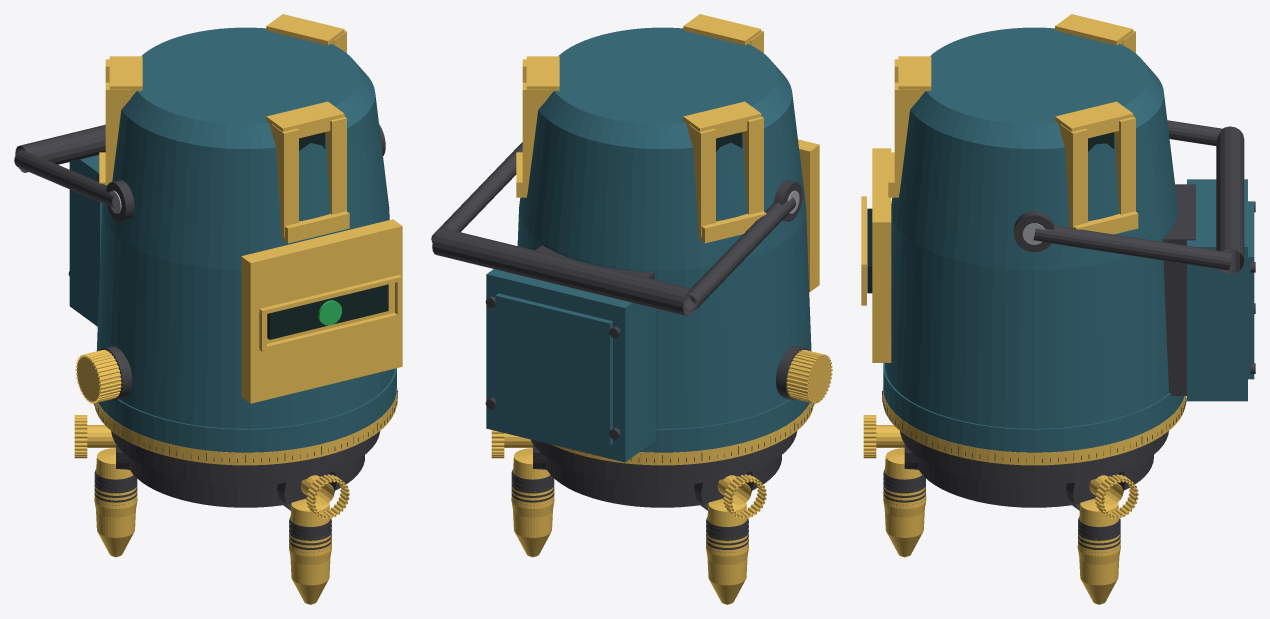
Rendered from workfix_laser_approx.glb.
3 views of the same model, side by side, from view 1: azimuth 30°, elevation 25°; view 2: azimuth 150°, elevation 25°; view 3: azimuth 270°, elevation 25° (orthographic).
Parts seen in each view (by area): view 1: Tapered blue housing, Front gold escutcheon, Lower blue seam, Gold adjustable foot (×2), Rotating base, Blue battery pack, Gold tower crown (×3), Tripod central platform, Gold graduated ring, Gold tower right (×2), Horizontal optical aperture, Gold tower left (+8 smaller); view 2: Tapered blue housing, Battery rear inset, Blue battery pack, Carry handle grip, Gold adjustable foot (×2), Rotating base, Carry handle side (×2), Gold tower crown (×3), Tripod central platform, Lower blue seam, Gold tower right (×2), Gold graduated ring (+6 smaller); view 3: Tapered blue housing, Blue battery pack, Lower blue seam, Gold adjustable foot (×2), Rotating base, Carry handle side (×2), Gold tower crown (×3), Front gold escutcheon, Gold graduated ring, Battery mounting rail, Tripod central platform, Carry handle grip (+6 smaller).
Boxes of the visible parts, bbox=[...] form: Tapered blue housing: bbox=[96, 27, 394, 428]; Front gold escutcheon: bbox=[241, 219, 402, 403]; Lower blue seam: bbox=[98, 368, 396, 452]; Gold adjustable foot (×2): bbox=[94, 448, 331, 604]; Rotating base: bbox=[111, 431, 379, 485]; Blue battery pack: bbox=[69, 155, 102, 326]; Gold tower crown (×3): bbox=[109, 14, 344, 138]; Tripod central platform: bbox=[128, 455, 364, 507]; Gold graduated ring: bbox=[94, 387, 396, 465]; Gold tower right (×2): bbox=[105, 82, 346, 214]; Horizontal optical aperture: bbox=[267, 284, 388, 339]; Gold tower left: bbox=[271, 124, 298, 237]; Tapered blue housing: bbox=[517, 27, 811, 428]; Battery rear inset: bbox=[495, 293, 612, 445]; Blue battery pack: bbox=[486, 269, 655, 462]; Carry handle grip: bbox=[432, 228, 696, 316]; Gold adjustable foot (×2): bbox=[511, 448, 748, 604]; Rotating base: bbox=[530, 431, 796, 485]; Carry handle side (×2): bbox=[431, 142, 795, 310]; Gold tower crown (×3): bbox=[526, 14, 761, 138]; Tripod central platform: bbox=[545, 455, 781, 507]; Lower blue seam: bbox=[640, 399, 809, 452]; Gold tower right (×2): bbox=[522, 82, 763, 214]; Gold graduated ring: bbox=[551, 403, 813, 465]; Tapered blue housing: bbox=[885, 27, 1178, 428]; Blue battery pack: bbox=[1187, 179, 1247, 401]; Lower blue seam: bbox=[883, 363, 1184, 452]; Gold adjustable foot (×2): bbox=[883, 448, 1120, 604]; Rotating base: bbox=[900, 431, 1168, 485]; Carry handle side (×2): bbox=[1033, 120, 1231, 270]; Gold tower crown (×3): bbox=[898, 14, 1133, 138]; Front gold escutcheon: bbox=[872, 148, 891, 362]; Gold graduated ring: bbox=[883, 387, 1185, 465]; Battery mounting rail: bbox=[1163, 184, 1195, 395]; Tripod central platform: bbox=[917, 455, 1153, 507]; Carry handle grip: bbox=[1216, 126, 1244, 274].
Bounding box in the file's own units: 1.34 × 2.11 × 1.55.
